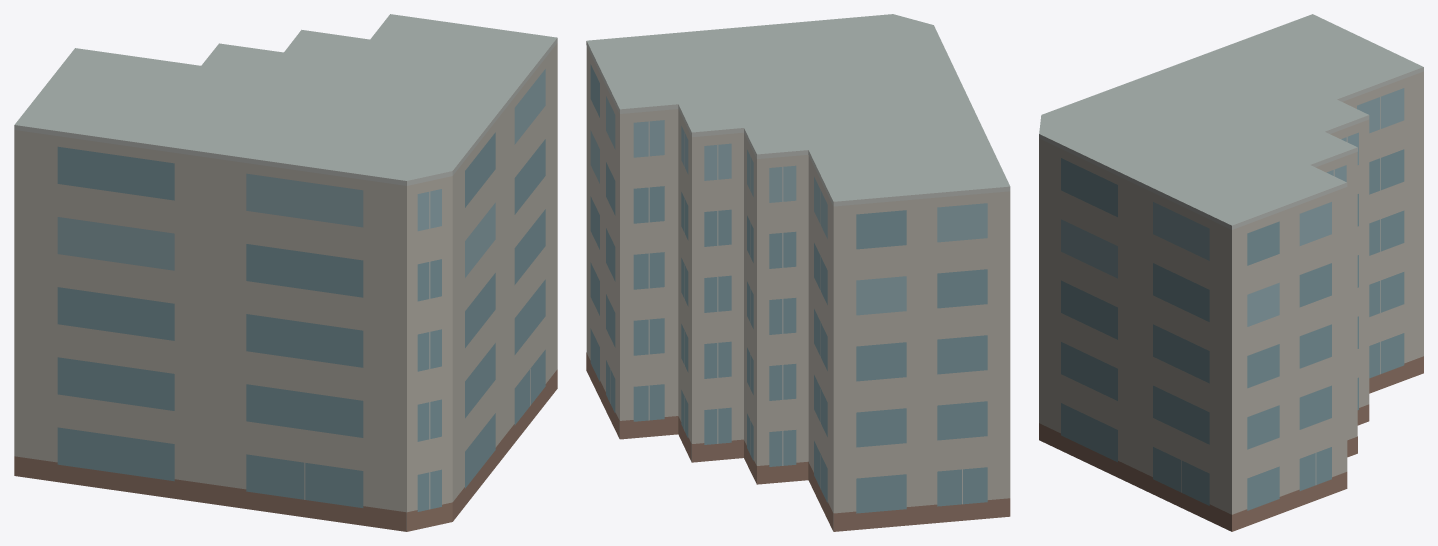
The model's file is survey-upis-32790940.glb.
3 views of the same model, side by side, from view 1: azimuth 30°, elevation 25°; view 2: azimuth 150°, elevation 25°; view 3: azimuth 270°, elevation 25° (orthographic). The views are drawn at different scales.
Visible parts, largest first — view 1: survey-upis-32790940.tmp; view 2: survey-upis-32790940.tmp; view 3: survey-upis-32790940.tmp.
Part boxes in pixels (left/top/right/bottom): survey-upis-32790940.tmp: left=14, top=14, right=557, bottom=531; survey-upis-32790940.tmp: left=586, top=14, right=1010, bottom=531; survey-upis-32790940.tmp: left=1039, top=14, right=1423, bottom=531.
Bounding box in the file's own units: 25.28 × 17.05 × 19.42.
